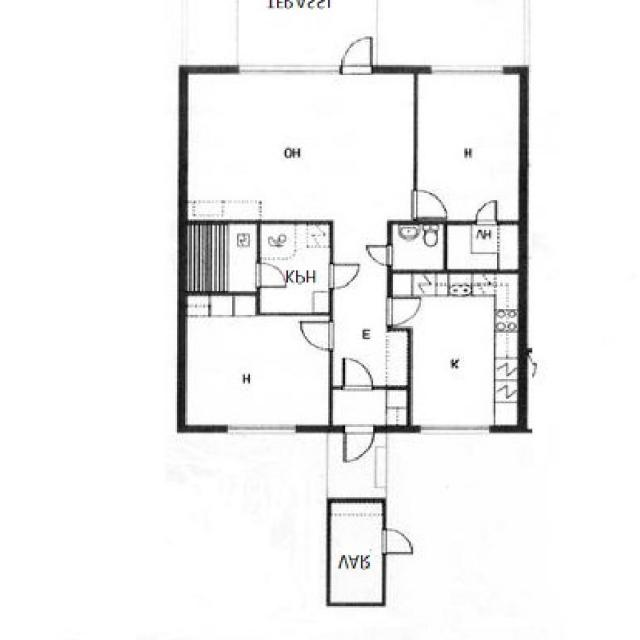door: (341, 35, 372, 73), (343, 425, 374, 463), (343, 358, 372, 390), (300, 322, 333, 350), (414, 190, 446, 218), (388, 298, 418, 325), (257, 263, 286, 288), (383, 529, 412, 554), (330, 264, 359, 288), (475, 200, 497, 224), (366, 245, 391, 265)
